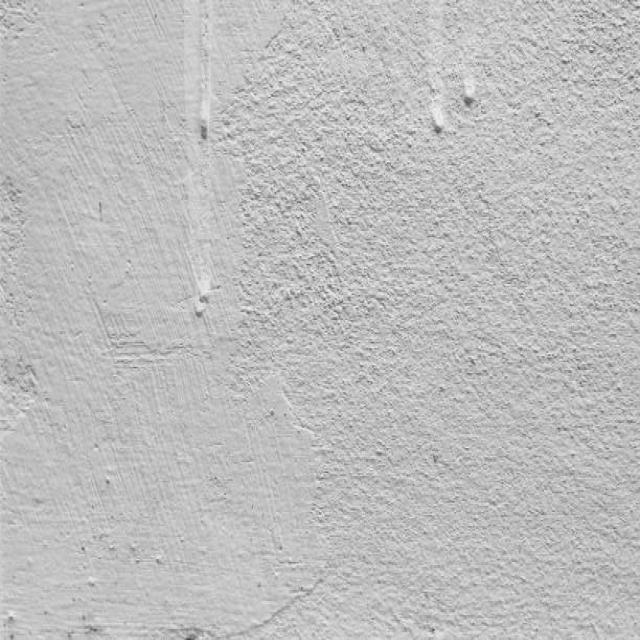paint drips: (164, 0, 226, 337), (419, 0, 484, 165)
